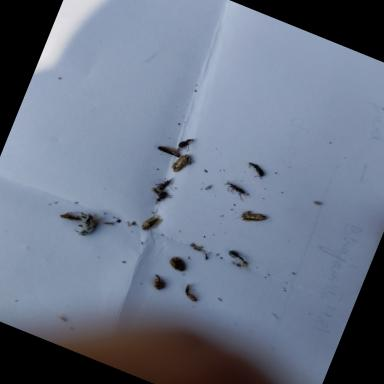pbw: (234, 205, 266, 230), (169, 150, 192, 176), (140, 210, 164, 234), (156, 142, 182, 158)
